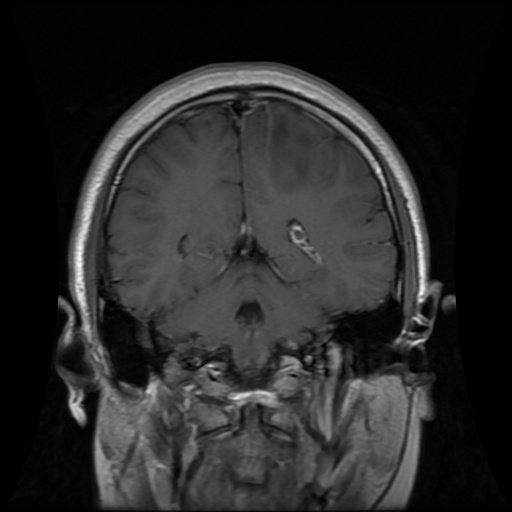glioma: (268, 106, 338, 190)
